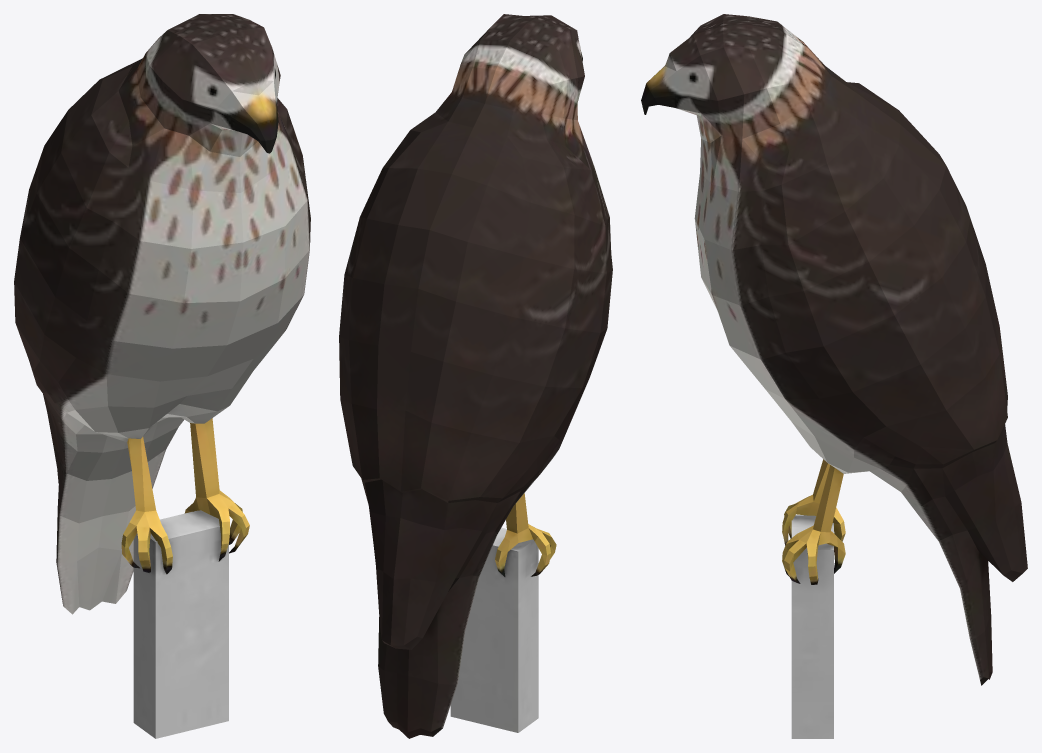
File: animals-northern-harrier-153.glb
The picture shows the model from 3 angles, left to right: view 1: azimuth 30°, elevation 25°; view 2: azimuth 150°, elevation 25°; view 3: azimuth 270°, elevation 25°; orthographic projection. The views are drawn at different scales.
Parts seen in each view (by area): view 1: NorthernHarrier_Mesh; view 2: NorthernHarrier_Mesh; view 3: NorthernHarrier_Mesh.
Boxes of the visible parts, left/top/right/bottom form: NorthernHarrier_Mesh: left=14, top=14, right=310, bottom=738; NorthernHarrier_Mesh: left=339, top=14, right=612, bottom=738; NorthernHarrier_Mesh: left=641, top=14, right=1027, bottom=738.
Bounding box in the file's own units: 1.45 × 4.15 × 2.09.
1 material, 1 textured.
